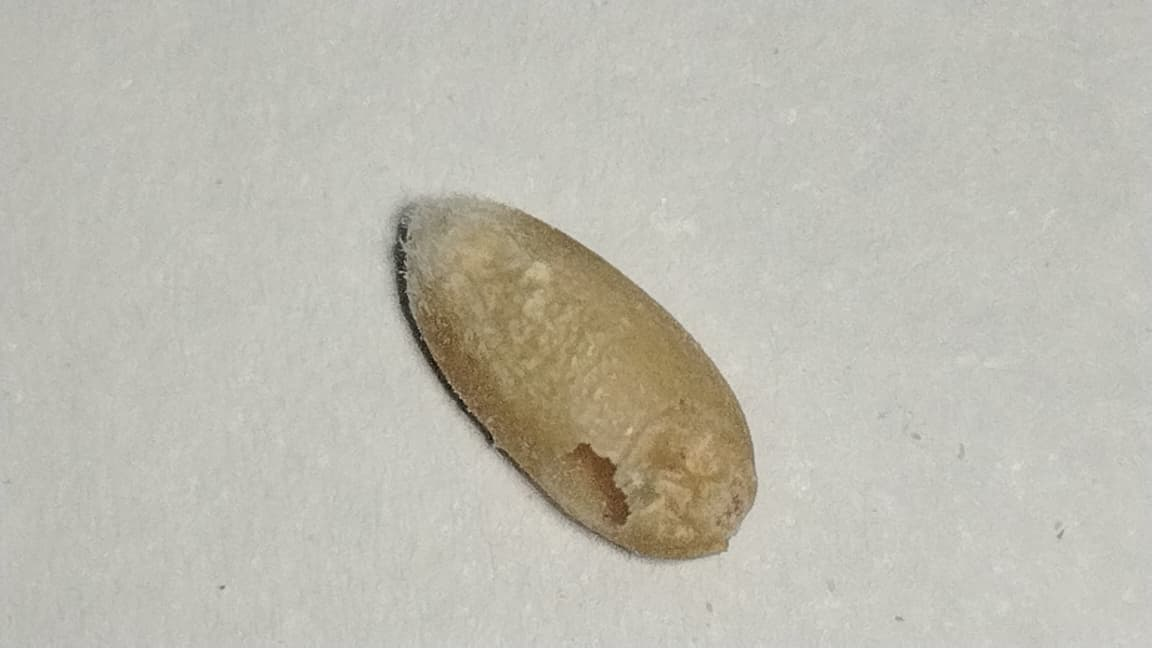damage: (397, 193, 756, 558)
insectdamage: (524, 417, 650, 553)
